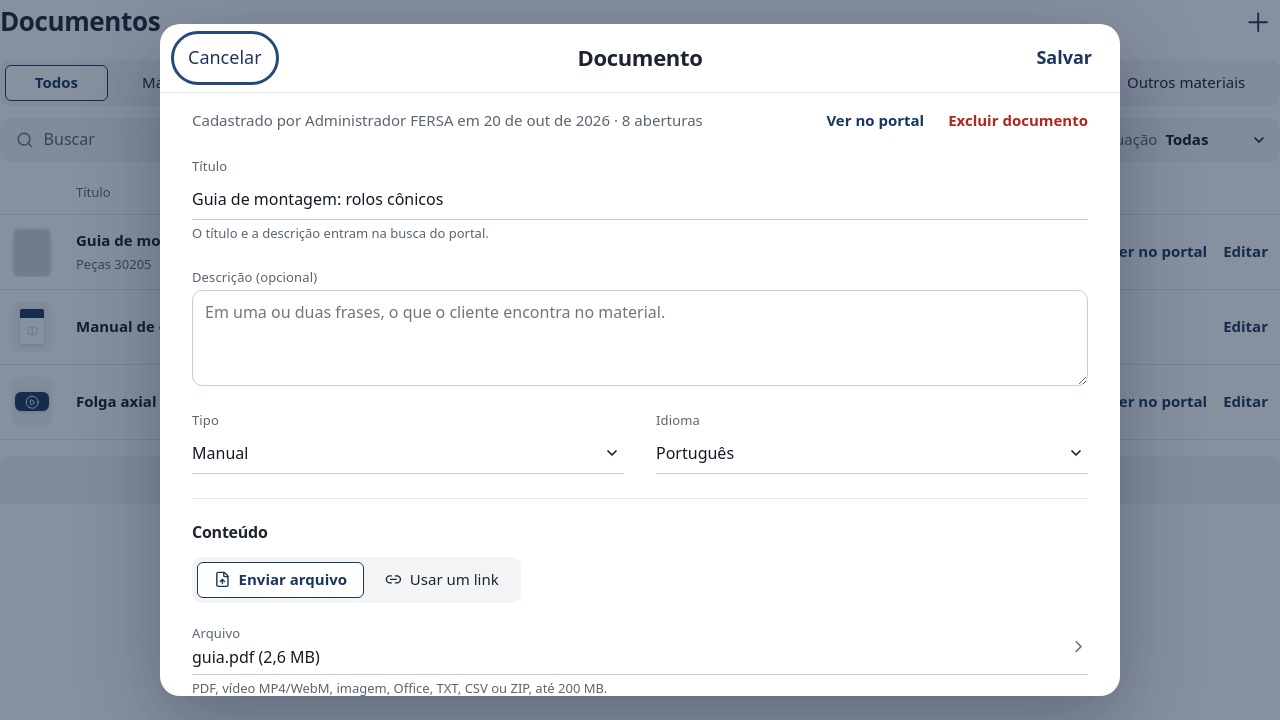
Edição de documento › salvar sem trocar o arquivo não envia arquivo
This screenshot has width=1280, height=720.
Expected: the button "Salvar" is shown, [1024,36,1104,80]
Select "Ficha técnica" in the dropdown labelled "Tipo" at [408, 454], box [192,434,624,474]
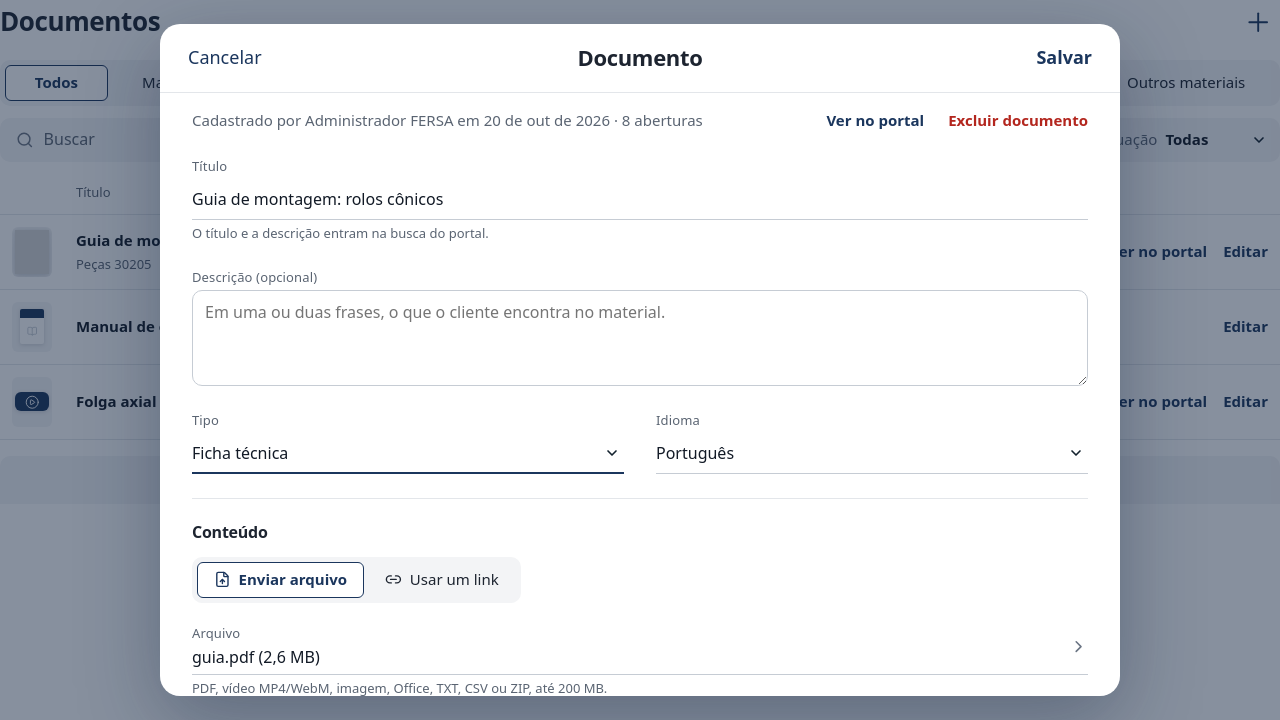
Click the button "Salvar" at [1064, 58], box [1024,36,1104,80]
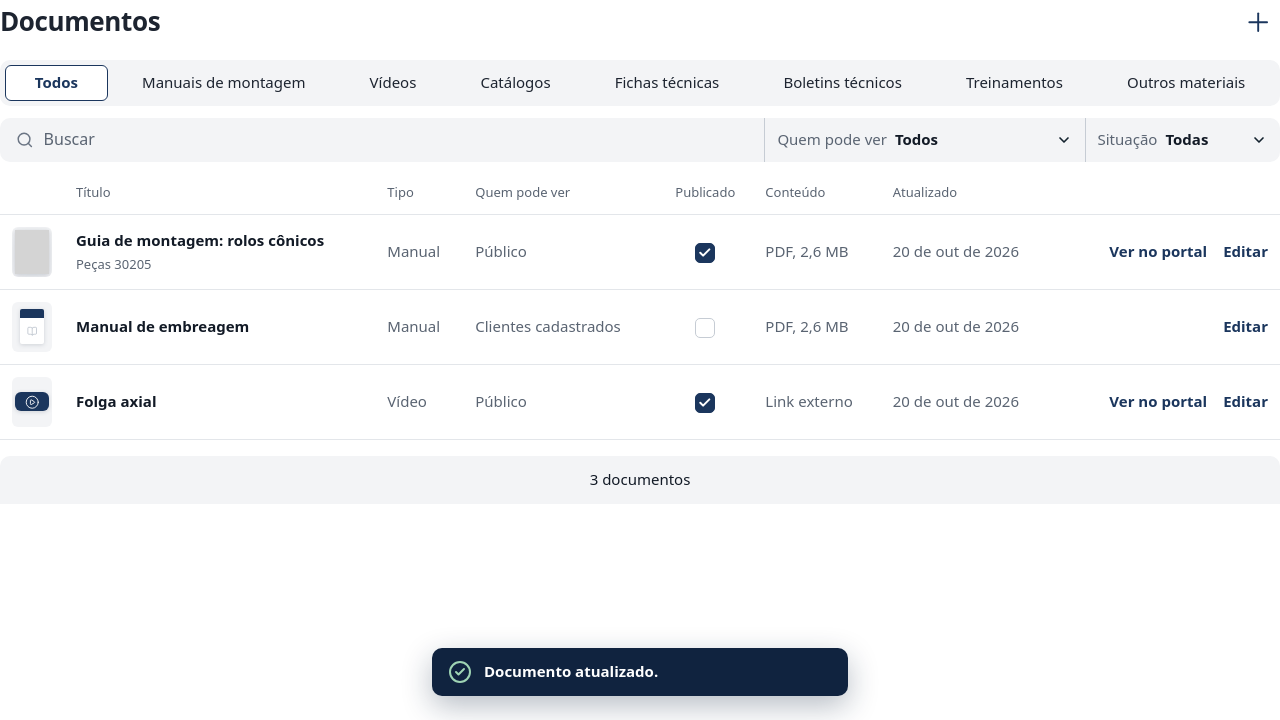
Result: the text "Documento atualizado." is shown at [484,660,658,684]
